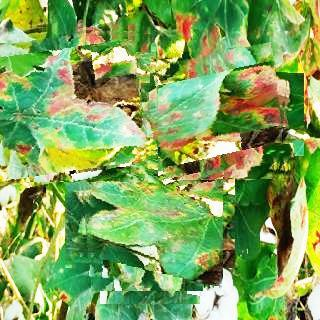blight: (0, 24, 152, 182), (77, 146, 223, 291), (158, 48, 290, 180)
